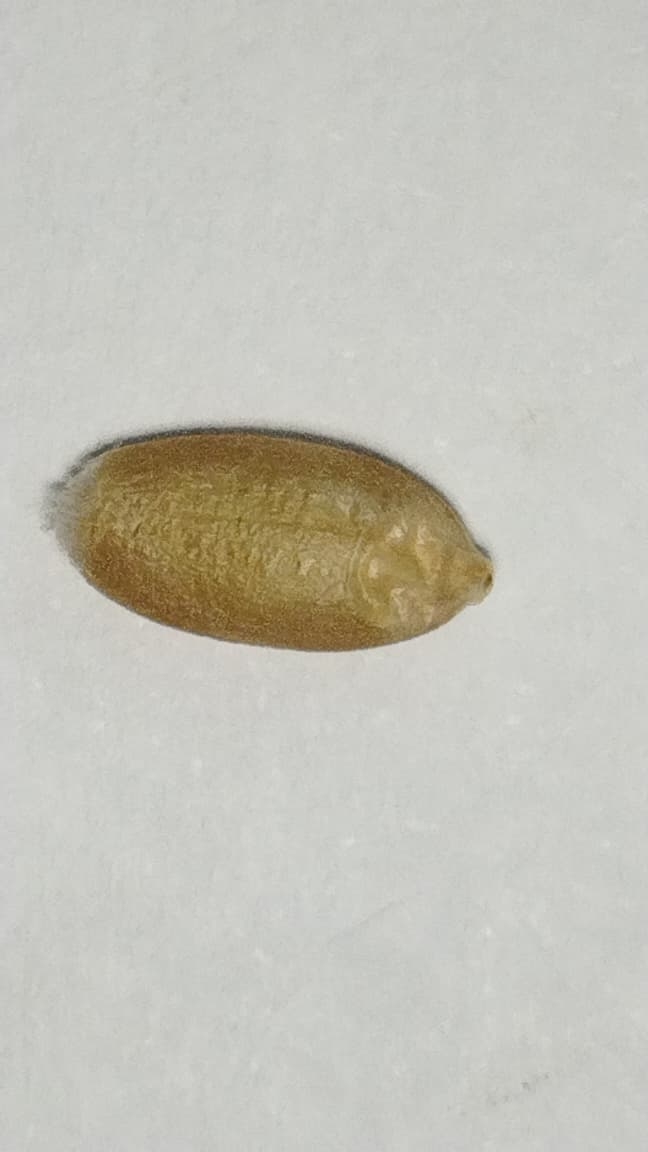healthy: (50, 427, 492, 651)
